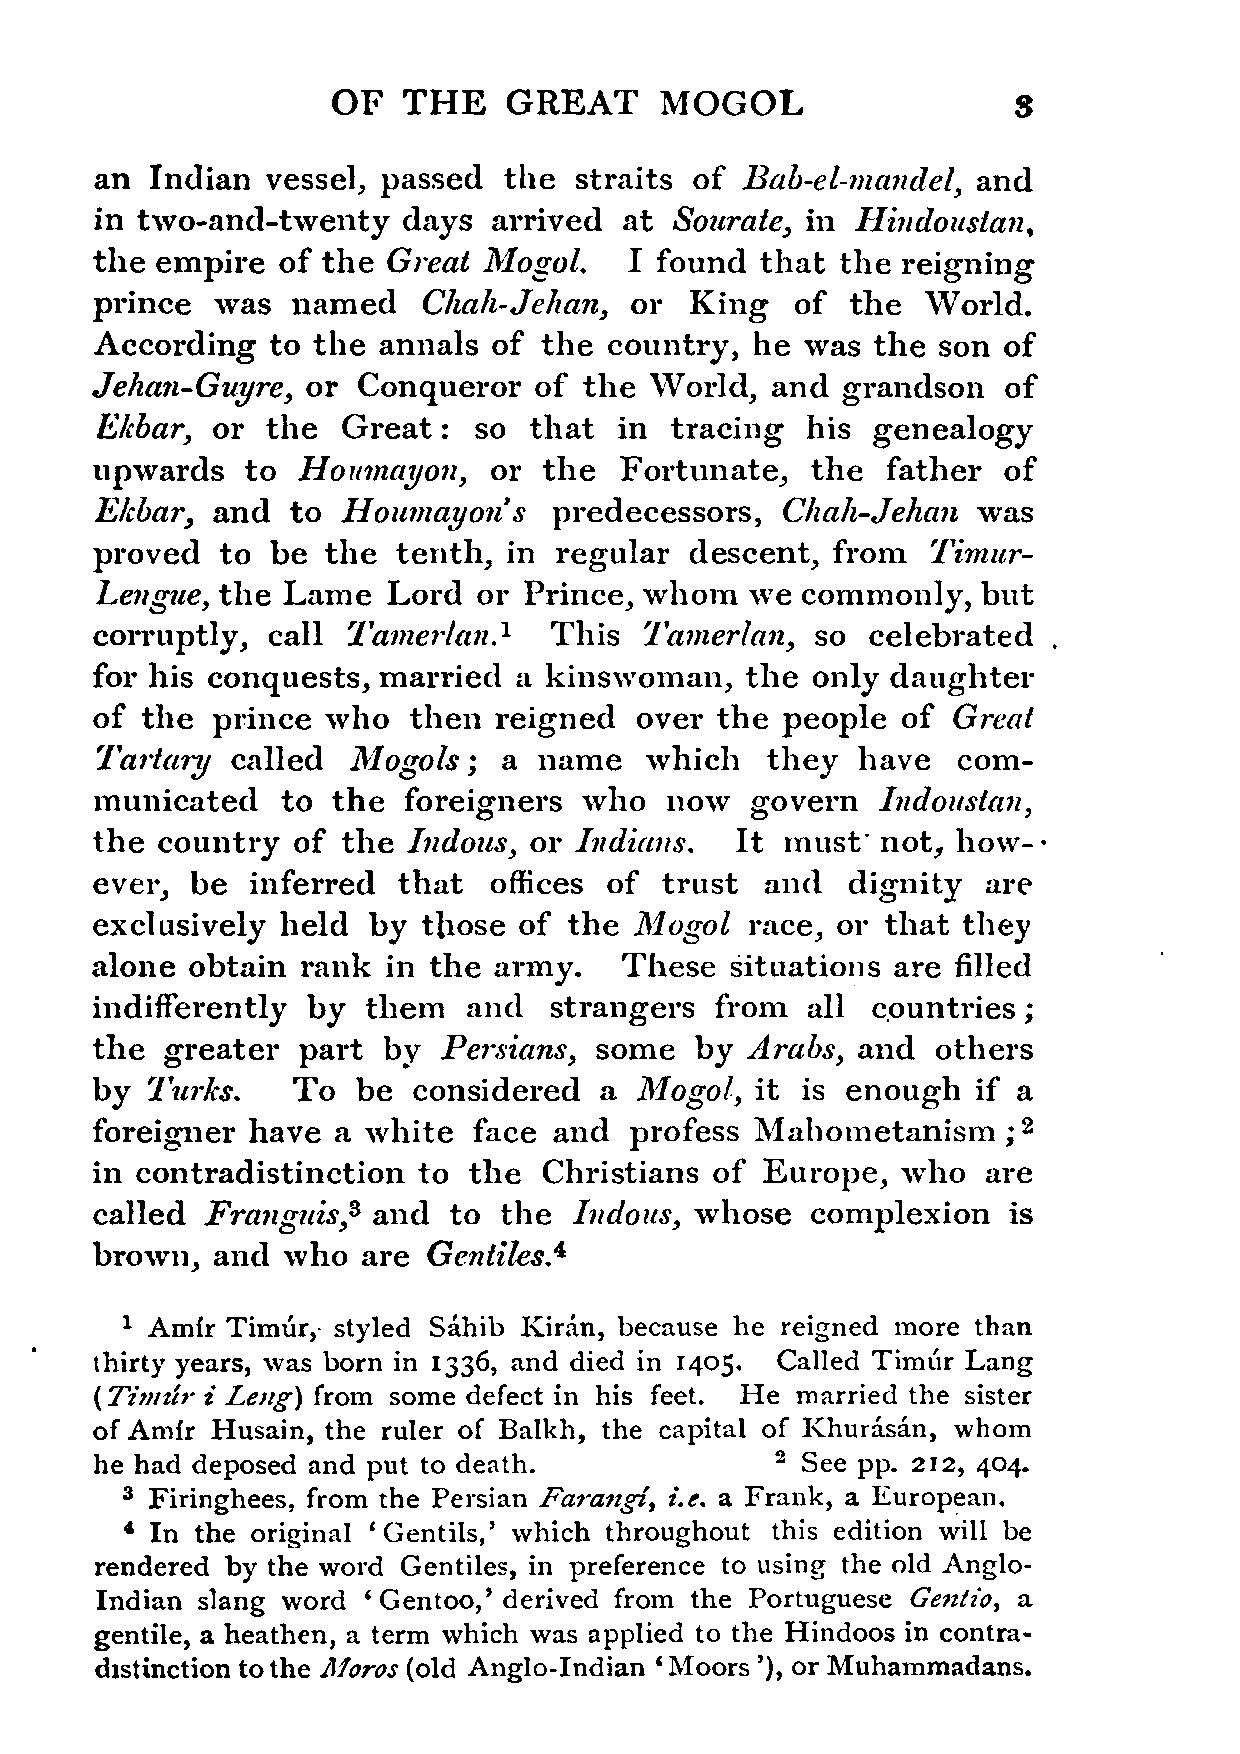content: (89, 160, 1041, 1691)
content_chapter: (326, 83, 805, 119)
content_pagenumber: (1005, 86, 1045, 126)
